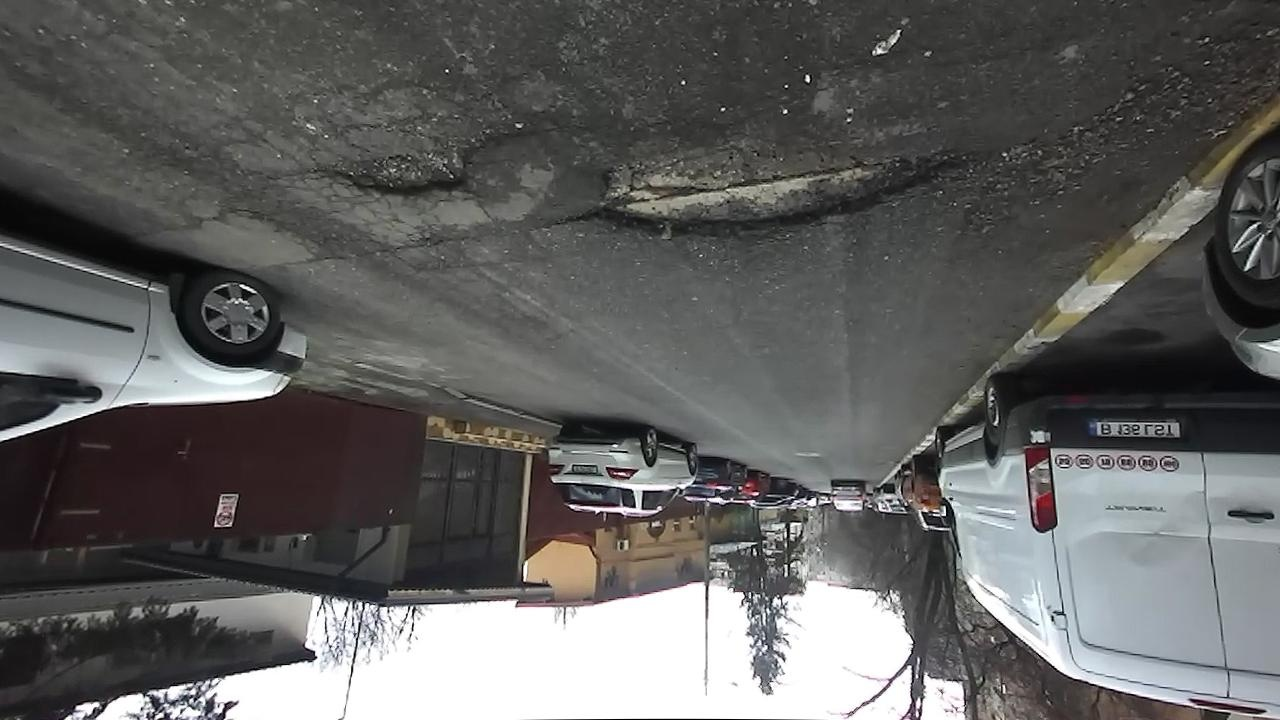pothole: (570, 126, 1004, 249), (323, 124, 525, 201)
